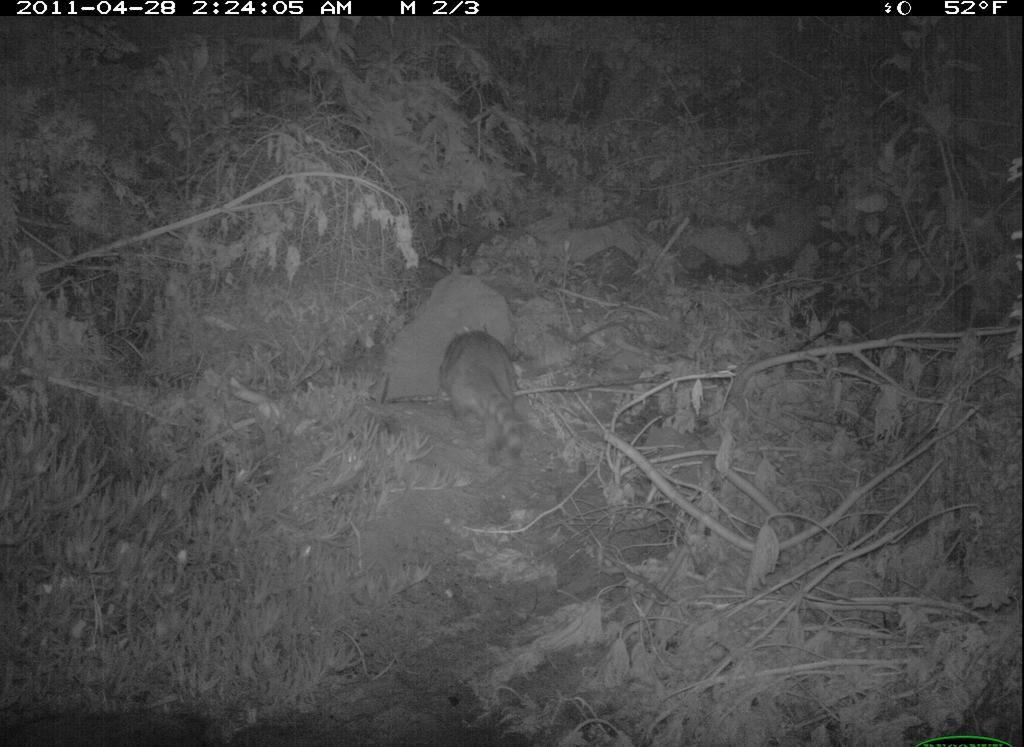raccoon: (431, 321, 539, 495)
